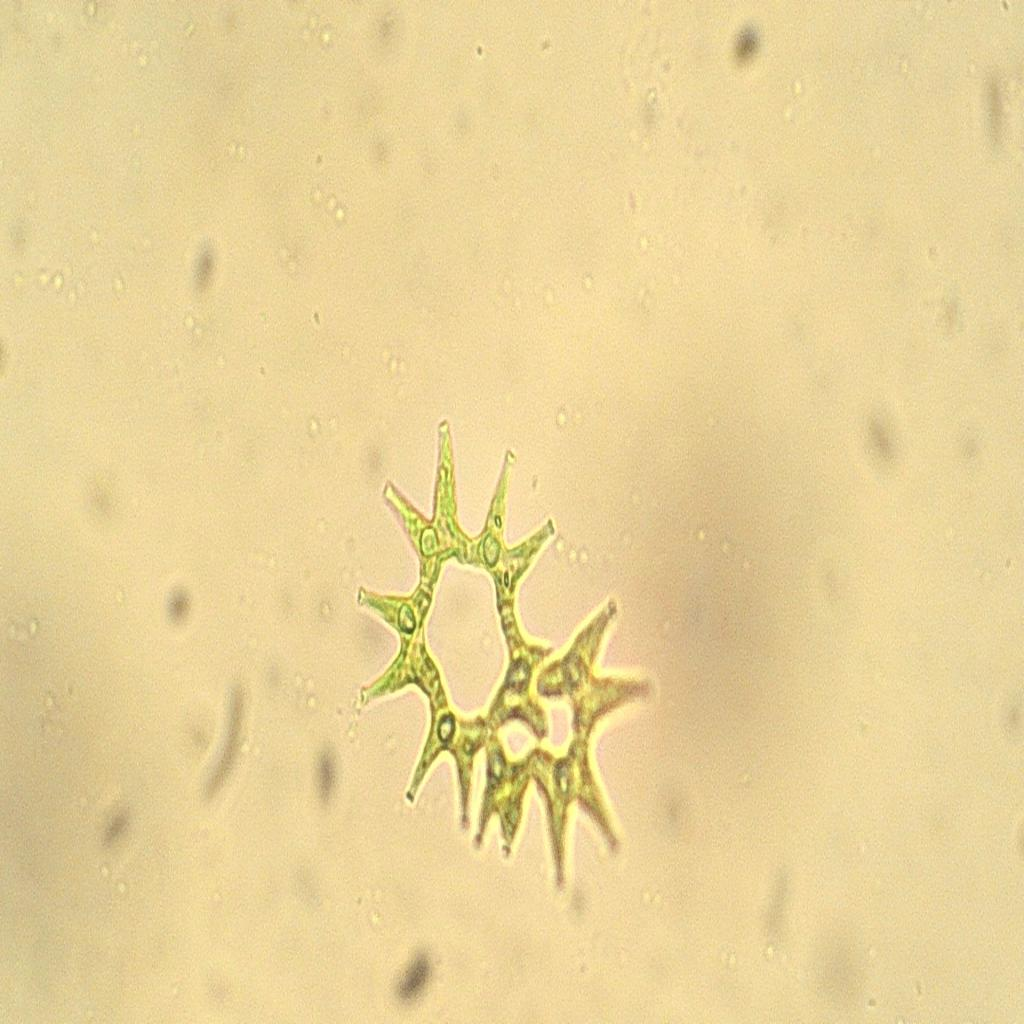Pediastrum_CFI: (338, 395, 668, 908)
